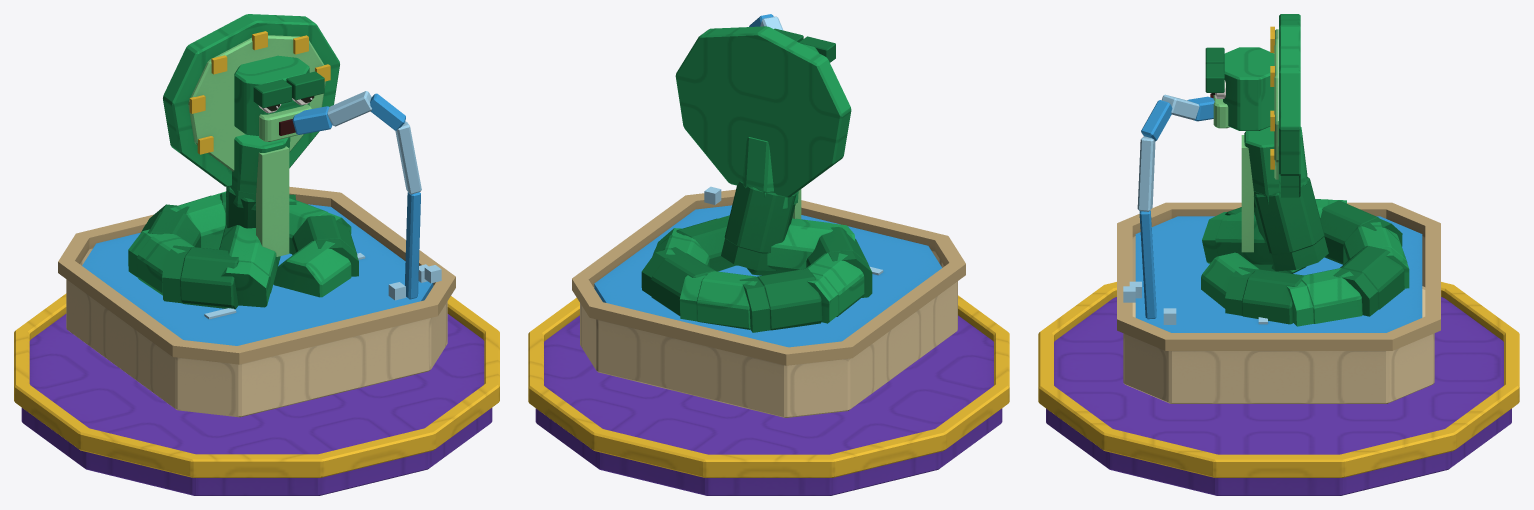
File: CobraFountain.fbx
3 views of the same model, side by side, from view 1: azimuth 30°, elevation 25°; view 2: azimuth 150°, elevation 25°; view 3: azimuth 270°, elevation 25° (orthographic).
Visible parts, largest first — view 1: Art_CobraFountain_Stand, Art_CobraFountain_Bowl, Art_CobraFountain_Body, Art_CobraFountain_Hood, Art_CobraFountain_Head, Art_CobraFountain_Stream; view 2: Art_CobraFountain_Stand, Art_CobraFountain_Bowl, Art_CobraFountain_Body, Art_CobraFountain_Hood, Art_CobraFountain_Head, Art_CobraFountain_Stream; view 3: Art_CobraFountain_Stand, Art_CobraFountain_Bowl, Art_CobraFountain_Body, Art_CobraFountain_Head, Art_CobraFountain_Hood, Art_CobraFountain_Stream.
Part boxes in pixels (x1,y1,x2,y2): Art_CobraFountain_Stand: [14, 293, 499, 495]; Art_CobraFountain_Bowl: [58, 186, 455, 417]; Art_CobraFountain_Body: [128, 134, 358, 309]; Art_CobraFountain_Hood: [163, 14, 339, 186]; Art_CobraFountain_Head: [234, 55, 324, 141]; Art_CobraFountain_Stream: [292, 91, 441, 300]; Art_CobraFountain_Stand: [528, 295, 1009, 495]; Art_CobraFountain_Bowl: [572, 189, 965, 417]; Art_CobraFountain_Body: [641, 137, 872, 332]; Art_CobraFountain_Hood: [675, 26, 851, 197]; Art_CobraFountain_Head: [774, 28, 835, 62]; Art_CobraFountain_Stream: [704, 14, 783, 204]; Art_CobraFountain_Stand: [1038, 282, 1519, 495]; Art_CobraFountain_Bowl: [1117, 202, 1440, 403]; Art_CobraFountain_Body: [1201, 121, 1409, 326]; Art_CobraFountain_Head: [1205, 47, 1274, 130]; Art_CobraFountain_Hood: [1270, 14, 1300, 197]; Art_CobraFountain_Stream: [1123, 94, 1214, 324].
Bounding box in the file's own units: 3.09 × 2.64 × 3.09.
